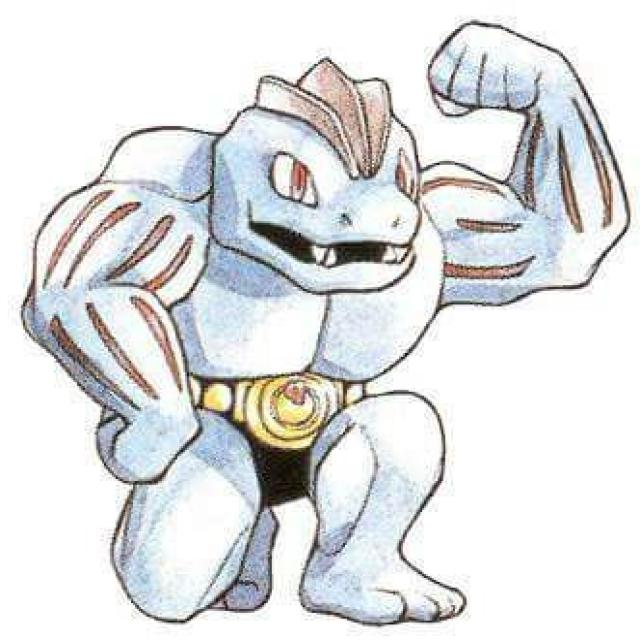Machoke: (17, 30, 640, 631)
